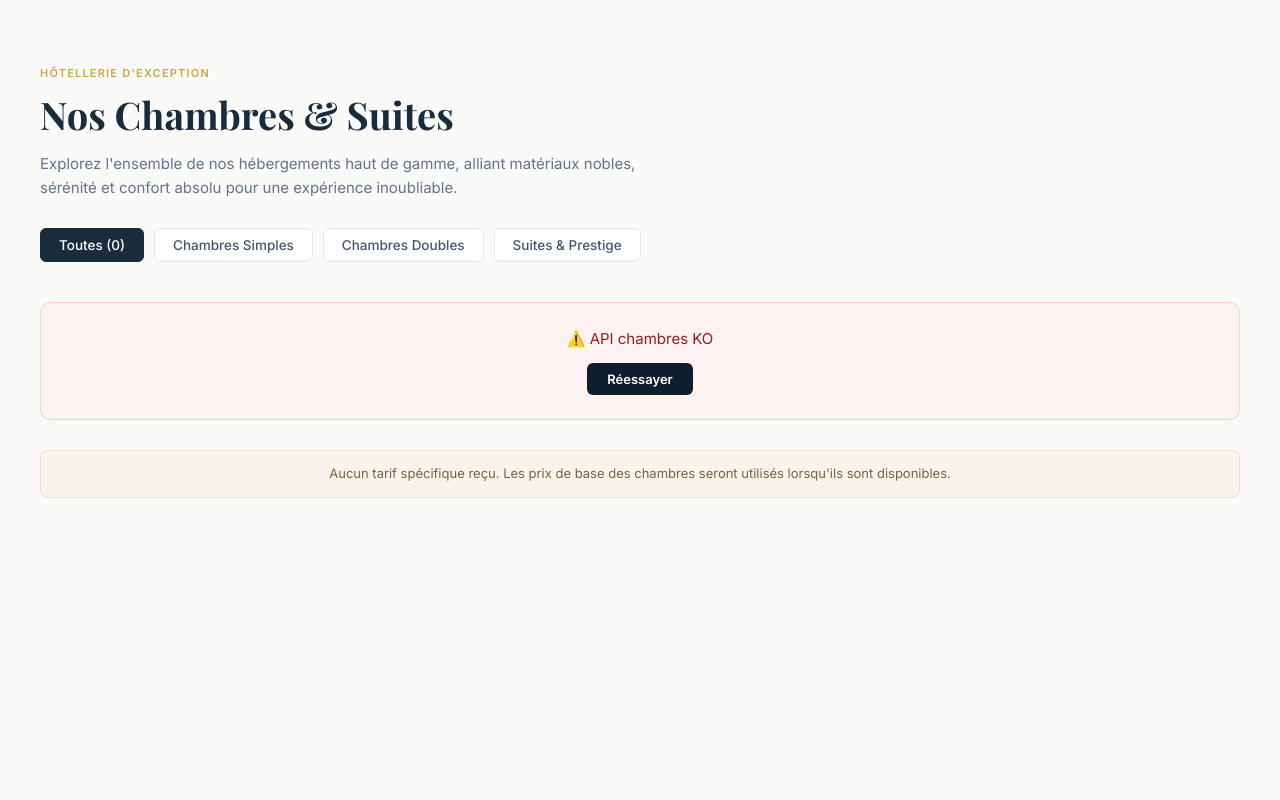
it: ChambresPage › affiche une erreur et permet de réessayer
This screenshot has width=1280, height=800.
Check: the text "⚠️ API chambres KO" is shown, box x1=567 y1=329 x2=713 y2=348
Click the button "Réessayer". click: click(640, 380)
box: x1=587 y1=364 x2=693 y2=396
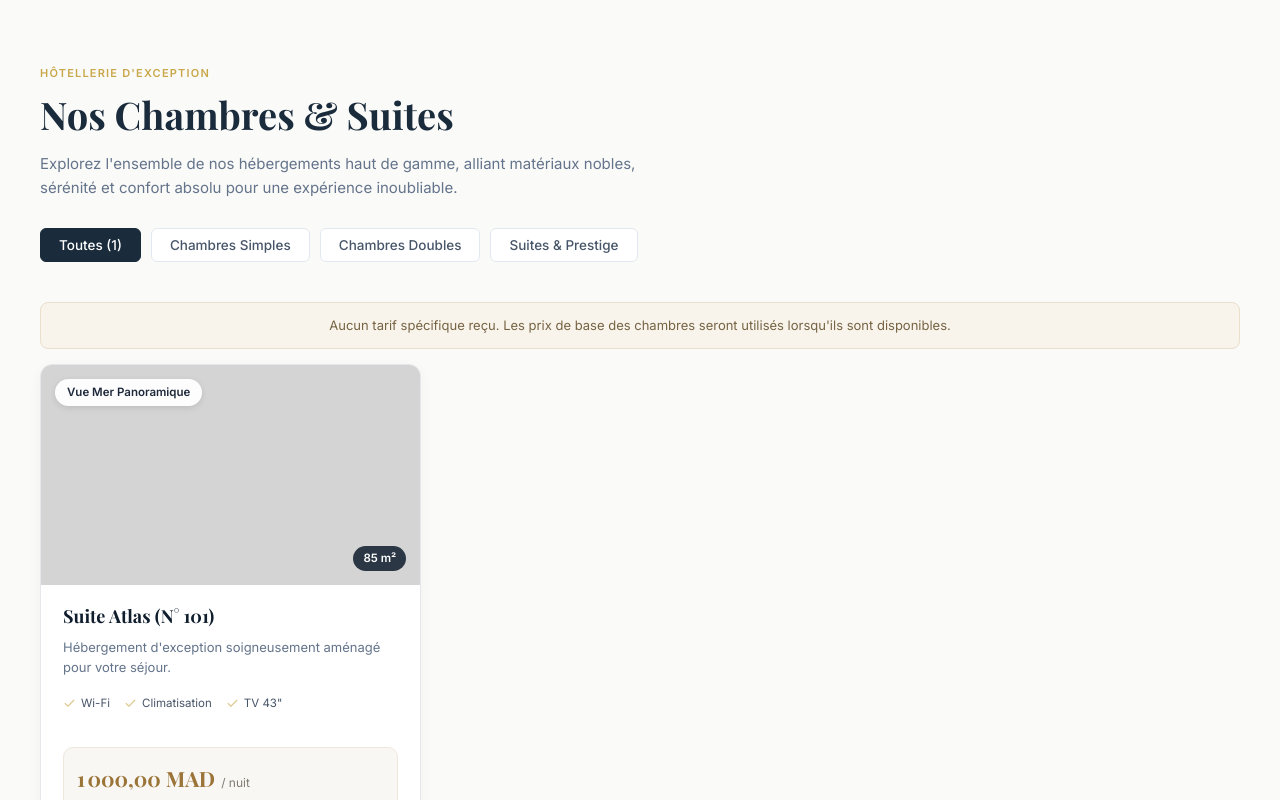
Check: the heading "Suite Atlas (N° 101)" is shown, box x1=63 y1=604 x2=214 y2=628
